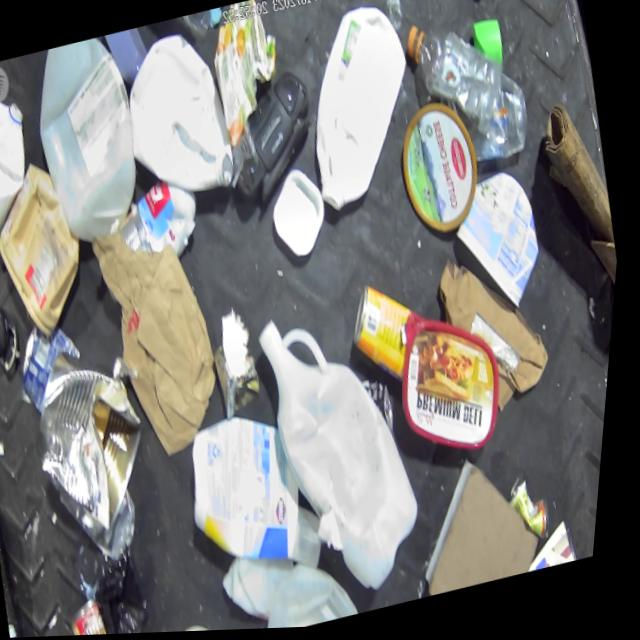can: (20, 335, 175, 550), (343, 275, 432, 394), (14, 313, 98, 416), (211, 333, 274, 422), (508, 470, 565, 552), (74, 593, 137, 637), (364, 376, 405, 439), (119, 207, 160, 261)
milk_jug: (242, 289, 455, 613), (284, 0, 438, 218), (15, 31, 161, 252), (108, 22, 250, 209), (0, 92, 54, 267), (259, 551, 374, 631), (223, 546, 314, 632)
plastic_bottle: (394, 6, 518, 154)
